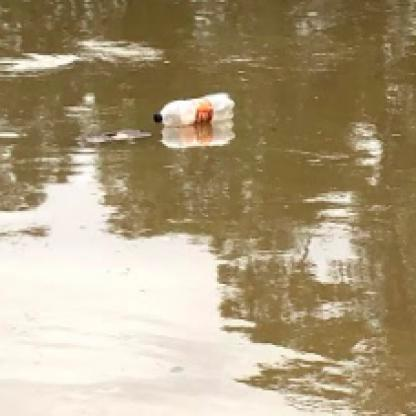Plastic: (154, 93, 237, 129)
